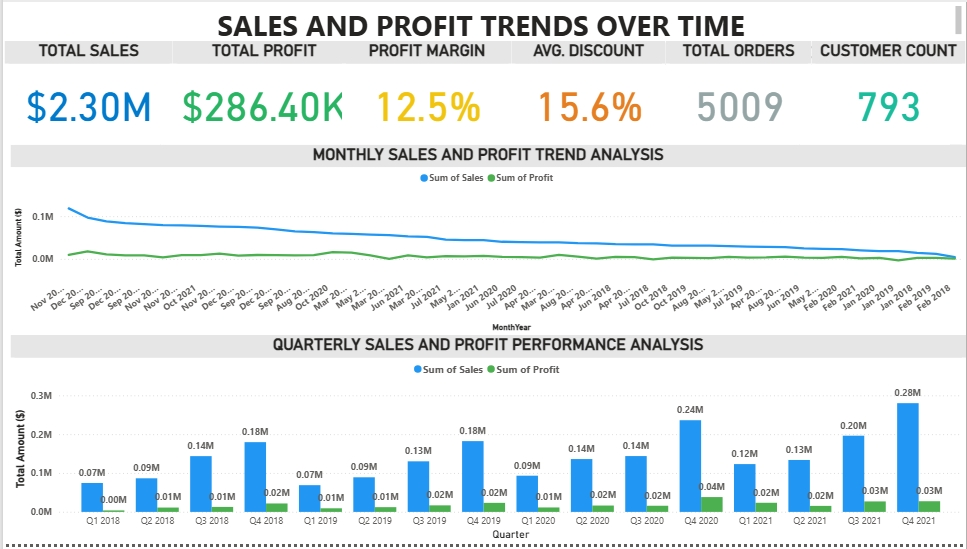

What the dashboard file says about the page in this screenshot:
{"tool":"powerbi","page":{"name":"Sales and Profit Trends Over Time","canvas":[1280,720],"ordinal":0},"visuals":[{"type":"lineChart","title":"MONTHLY SALES AND PROFIT TREND ANALYSIS","fields":{"Category":["Orders.MonthYear"],"Y":["Sum(Orders.Sales)","Sum(Orders.Profit)"]},"box":[9.4,189,1269.9,253.2],"z":0},{"type":"card","title":"TOTAL SALES","fields":{"Values":["Orders.Total Sales"]},"box":[9.4,52.9,198.4,136.1],"z":1000,"group":"g1"},{"type":"clusteredColumnChart","title":"QUARTERLY SALES AND PROFIT PERFORMANCE ANALYSIS","fields":{"Y":["Sum(Orders.Sales)","Sum(Orders.Profit)"],"Category":["Orders.Quarter"]},"box":[9.4,442.2,1269.9,277.8],"z":1000},{"type":"textbox","box":[0,0,1278.8,53],"z":2000},{"type":"card","title":"TOTAL SALES","fields":{"Values":["Orders.Total Sales"]},"box":[1,52,224,136],"z":2000,"group":"g2"},{"type":"card","title":"TOTAL PROFIT","fields":{"Values":["Orders.Total Profit"]},"box":[207.8,52.9,240,136.1],"z":2000,"group":"g1"},{"type":"group","id":"g1","title":"Group 1","box":[9.4,52.9,1249.1,136.1],"z":3000},{"type":"card","title":"PROFIT MARGIN","fields":{"Values":["Orders.Profit Margin"]},"box":[447.8,52.9,221.1,136.1],"z":3000,"group":"g1"},{"type":"group","id":"g2","title":"Group 1","box":[1,52,1278,136],"z":4000},{"type":"card","title":"TOTAL PROFIT","fields":{"Values":["Orders.Total Profit"]},"box":[225,52,244,136],"z":4000,"group":"g2"},{"type":"card","title":"AVG. DISCOUNT","fields":{"Values":["Orders.Average Discount"]},"box":[668.9,52.9,200.3,136.1],"z":4000,"group":"g1"},{"type":"card","title":"TOTAL ORDERS","fields":{"Values":["Orders.Total Orders"]},"box":[869.2,52.9,189,136.1],"z":5500,"group":"g1"},{"type":"card","title":"CUSTOMER COUNT","fields":{"Values":["Orders.Customer Count"]},"box":[1058.2,52.9,200.3,136.1],"z":5750,"group":"g1"},{"type":"card","title":"PROFIT MARGIN","fields":{"Values":["Orders.Profit Margin"]},"box":[449.6,52,226.2,136],"z":6000,"group":"g2"},{"type":"card","title":"AVG. DISCOUNT","fields":{"Values":["Orders.Average Discount"]},"box":[675.8,52,204.9,136],"z":7000,"group":"g2"},{"type":"card","title":"TOTAL ORDERS","fields":{"Values":["Orders.Total Orders"]},"box":[880.7,52,193.3,136],"z":8000,"group":"g2"},{"type":"card","title":"CUSTOMER COUNT","fields":{"Values":["Orders.Customer Count"]},"box":[1074.1,52,204.9,136],"z":9000,"group":"g2"}]}

Visuals, with their boxes in screenshot pixels (x1, y1, x2, y2), scaled from the page's 1280x720 canvas onto the 967x549 screenshot:
"MONTHLY SALES AND PROFIT TREND ANALYSIS" lineChart: l=7, t=144, r=966, b=337
"TOTAL SALES" card: l=7, t=40, r=157, b=144
"QUARTERLY SALES AND PROFIT PERFORMANCE ANALYSIS" clusteredColumnChart: l=7, t=337, r=966, b=548
textbox: l=0, t=0, r=966, b=40
"TOTAL SALES" card: l=1, t=40, r=170, b=143
"TOTAL PROFIT" card: l=157, t=40, r=338, b=144
"Group 1" group: l=7, t=40, r=951, b=144
"PROFIT MARGIN" card: l=338, t=40, r=505, b=144
"Group 1" group: l=1, t=40, r=966, b=143
"TOTAL PROFIT" card: l=170, t=40, r=354, b=143
"AVG. DISCOUNT" card: l=505, t=40, r=657, b=144
"TOTAL ORDERS" card: l=657, t=40, r=799, b=144
"CUSTOMER COUNT" card: l=799, t=40, r=951, b=144
"PROFIT MARGIN" card: l=340, t=40, r=511, b=143
"AVG. DISCOUNT" card: l=511, t=40, r=665, b=143
"TOTAL ORDERS" card: l=665, t=40, r=811, b=143
"CUSTOMER COUNT" card: l=811, t=40, r=966, b=143
